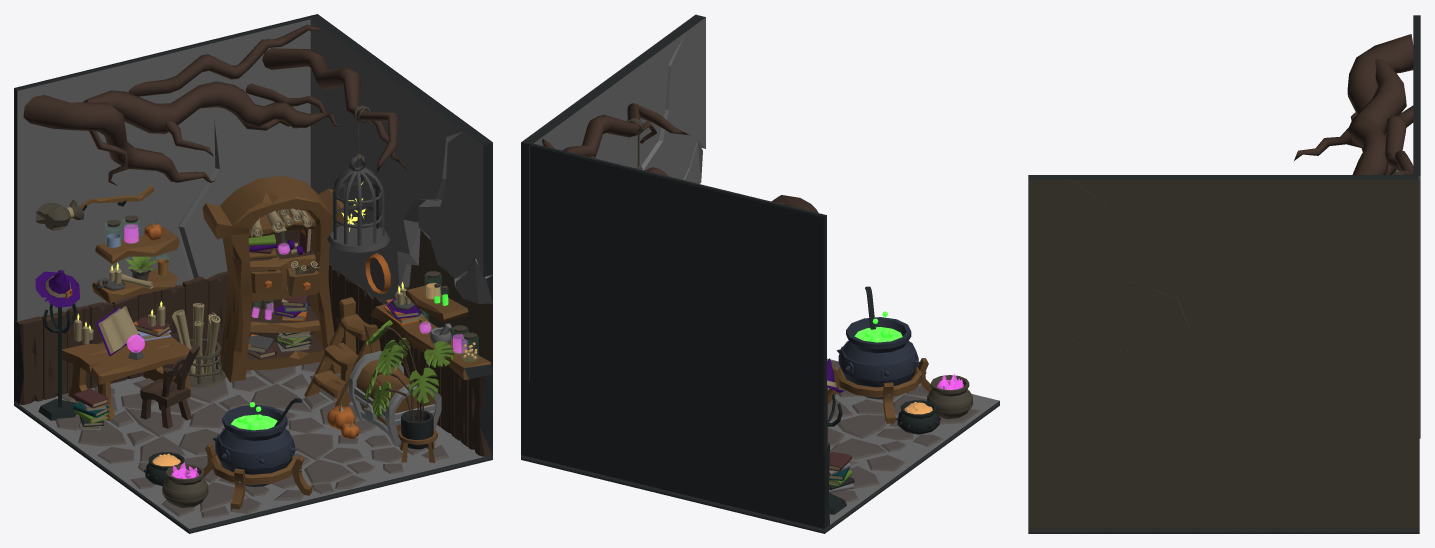
File: room01.glb
The picture shows the model from 3 angles, left to right: view 1: azimuth 30°, elevation 25°; view 2: azimuth 150°, elevation 25°; view 3: azimuth 270°, elevation 25°; orthographic projection. The views are drawn at different scales.
Parts seen in each view (by area): view 1: pCube128, polySurface180, polySurface331, polySurface128, polySurface474, polySurface126, polySurface317, polySurface324, polySurface379, pCube24, polySurface224, pPlane6 (+26 smaller); view 2: pPlane2, polySurface180, polySurface126, polySurface474, polySurface224, polySurface331, pCube128, polySurface268, polySurface263, pSphere31, pPlane49, pCube210; view 3: pPlane6, polySurface331, polySurface126, polySurface180, pCube128.
Boxes of the visible parts, box(x1,y1,x2,y2) form: pCube128: box(14, 17, 310, 323); polySurface180: box(308, 15, 492, 304); polySurface331: box(23, 24, 406, 185); polySurface128: box(202, 176, 343, 382); polySurface474: box(55, 358, 449, 518); polySurface126: box(14, 357, 492, 533); polySurface317: box(14, 271, 227, 404); polySurface324: box(328, 263, 492, 456); polySurface379: box(364, 320, 455, 449); pCube24: box(62, 336, 191, 420); polySurface224: box(215, 404, 294, 486); pPlane6: box(317, 14, 492, 373); pPlane2: box(521, 142, 824, 528); polySurface180: box(522, 15, 705, 183); polySurface126: box(521, 358, 999, 533); polySurface474: box(827, 360, 980, 503); polySurface224: box(838, 317, 918, 399); polySurface331: box(542, 103, 818, 212); pCube128: box(529, 143, 826, 452); polySurface268: box(827, 358, 931, 423); polySurface263: box(927, 375, 972, 419); pSphere31: box(896, 400, 941, 434); pPlane49: box(829, 451, 854, 492); pCube210: box(854, 311, 902, 342); pPlane6: box(1028, 179, 1419, 533); polySurface331: box(1294, 34, 1413, 174); polySurface126: box(1028, 528, 1419, 533); polySurface180: box(1028, 175, 1418, 351); pCube128: box(1413, 15, 1420, 438).
Size of the model in its own units: 3.2 by 3.2 by 3.21.
